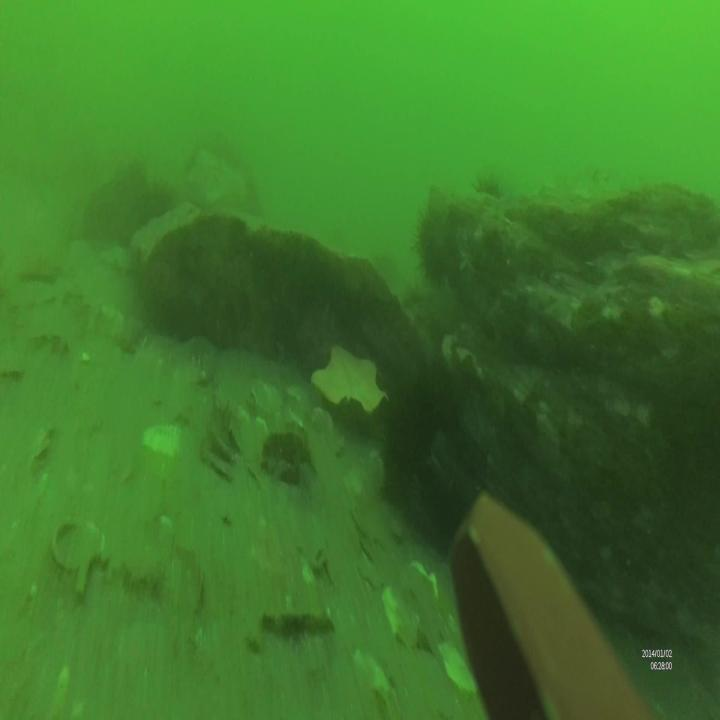echinus: (410, 202, 452, 282), (473, 169, 505, 216)
scallop: (438, 640, 481, 699), (144, 421, 188, 467)
starfish: (310, 338, 390, 429)
